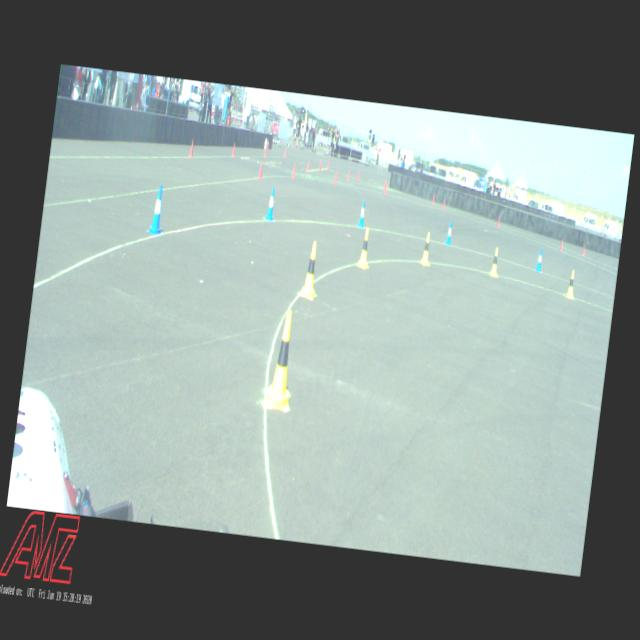blue_cone: (146, 183, 168, 236), (264, 186, 278, 221), (357, 200, 368, 228), (534, 247, 544, 272), (443, 220, 453, 244)
unknown_cone: (188, 138, 195, 157), (258, 160, 264, 180), (558, 238, 564, 252), (291, 162, 296, 178), (332, 171, 338, 184), (231, 142, 236, 156), (496, 215, 501, 228), (581, 243, 585, 256), (306, 160, 310, 172), (318, 160, 322, 171), (263, 146, 267, 157), (442, 198, 445, 210), (384, 183, 387, 194), (347, 170, 350, 181), (356, 170, 359, 180), (326, 160, 329, 170), (383, 180, 386, 190), (432, 193, 434, 204), (284, 146, 286, 156)
yellow_cone: (264, 308, 300, 408), (299, 240, 322, 300), (356, 226, 372, 268), (419, 232, 433, 266), (488, 246, 501, 277), (565, 268, 577, 300)
